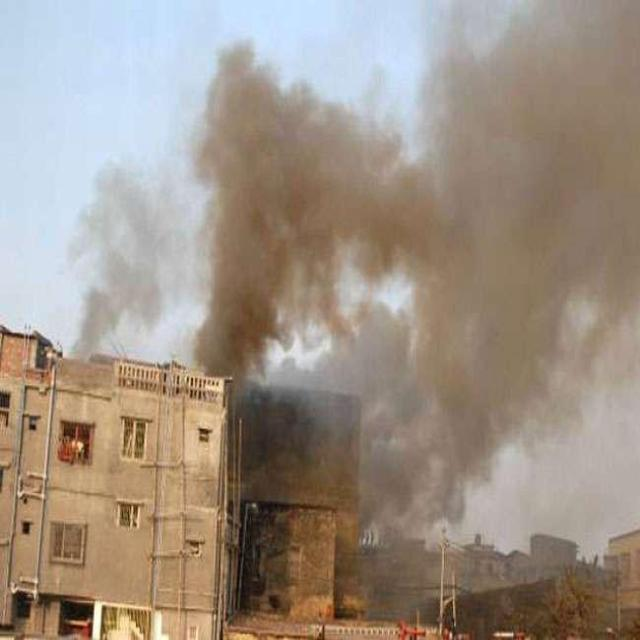Smoke: (69, 1, 640, 539)
